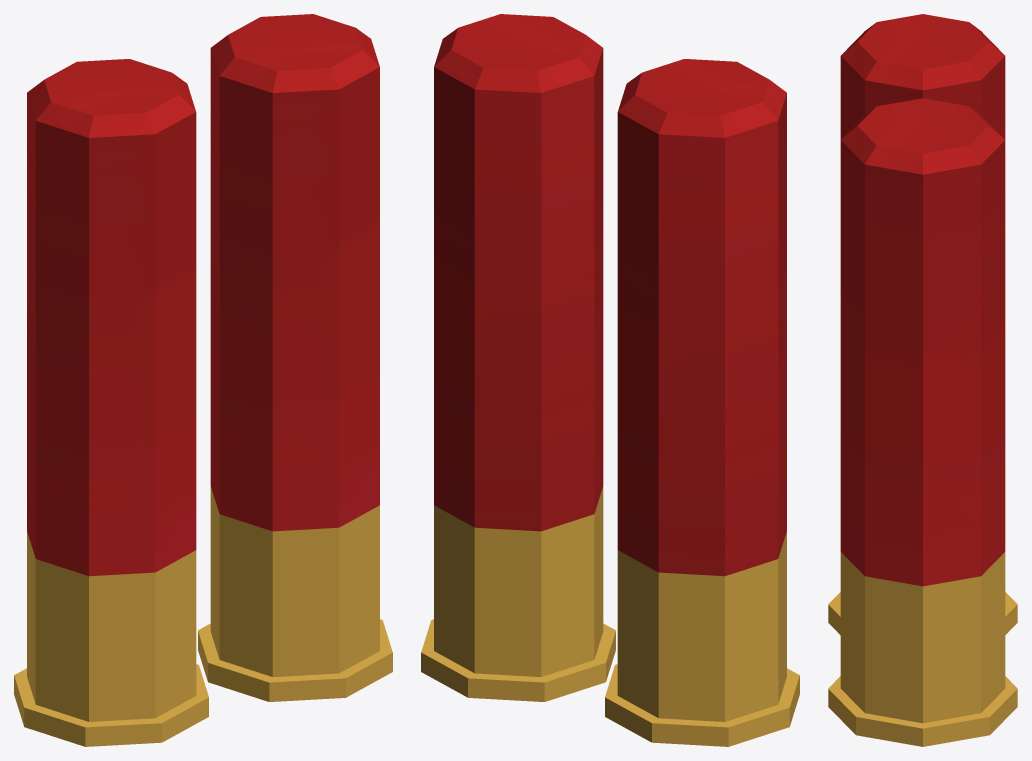
File: item_shotgun_ammo.glb
The picture shows the model from 3 angles, left to right: view 1: azimuth 30°, elevation 25°; view 2: azimuth 150°, elevation 25°; view 3: azimuth 270°, elevation 25°; orthographic projection. The views are drawn at different scales.
Visible parts, largest first — view 1: Ammo_gun; view 2: Ammo_gun; view 3: Ammo_gun.
Part boxes in pixels (x1,y1,x2,y2): Ammo_gun: (14,14,392,746); Ammo_gun: (421,14,799,746); Ammo_gun: (828,14,1017,746).
Size of the model in its own units: 0.0599 by 0.0988 by 0.0292.
1 material, 1 textured.
